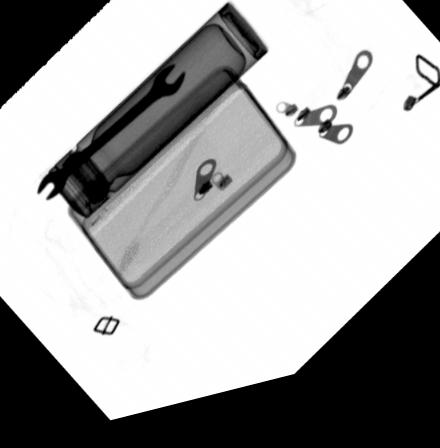Wrench: (34, 70, 186, 204)
